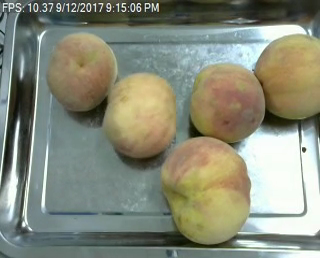Peach: (161, 134, 252, 246), (103, 73, 178, 159), (189, 62, 265, 142), (46, 31, 117, 112), (256, 32, 320, 119)
